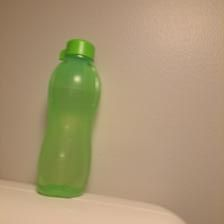bottle: (32, 37, 104, 201)
